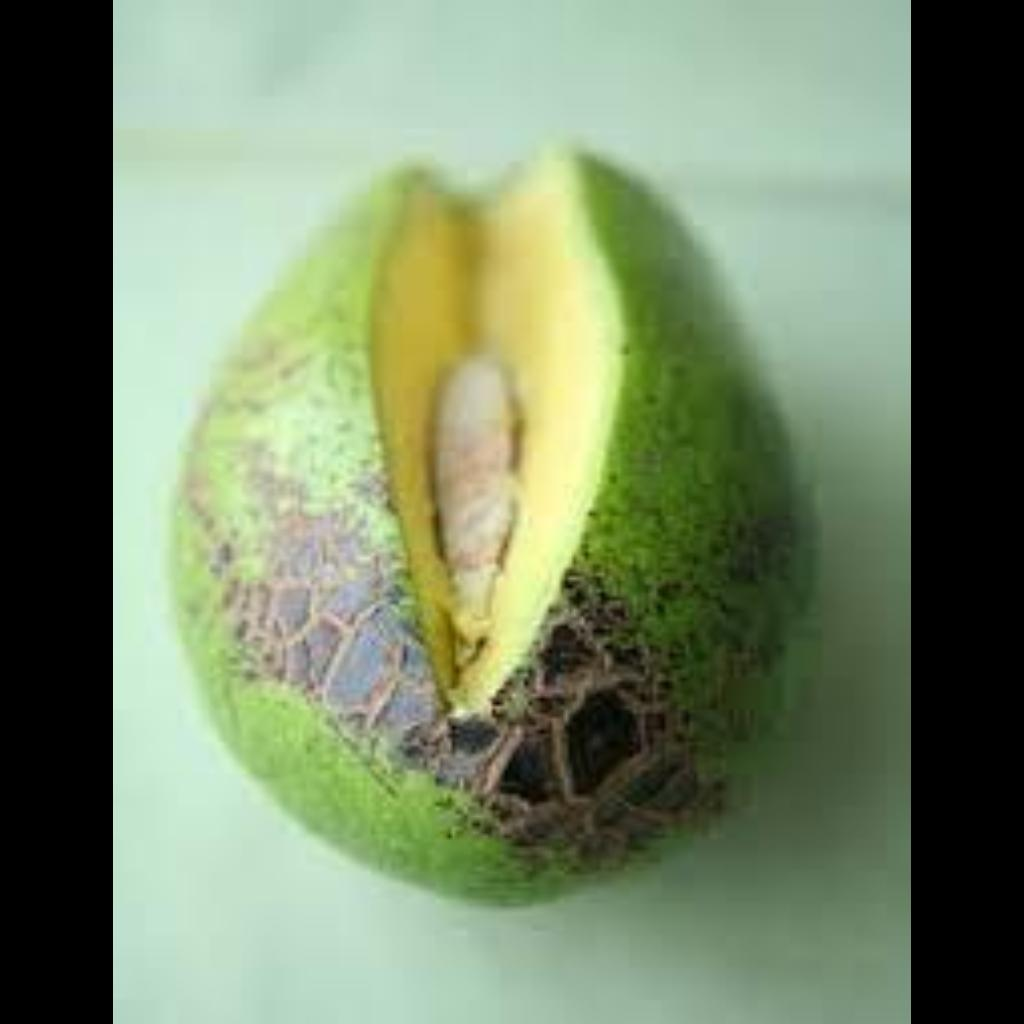cercospora: (141, 123, 879, 953)
